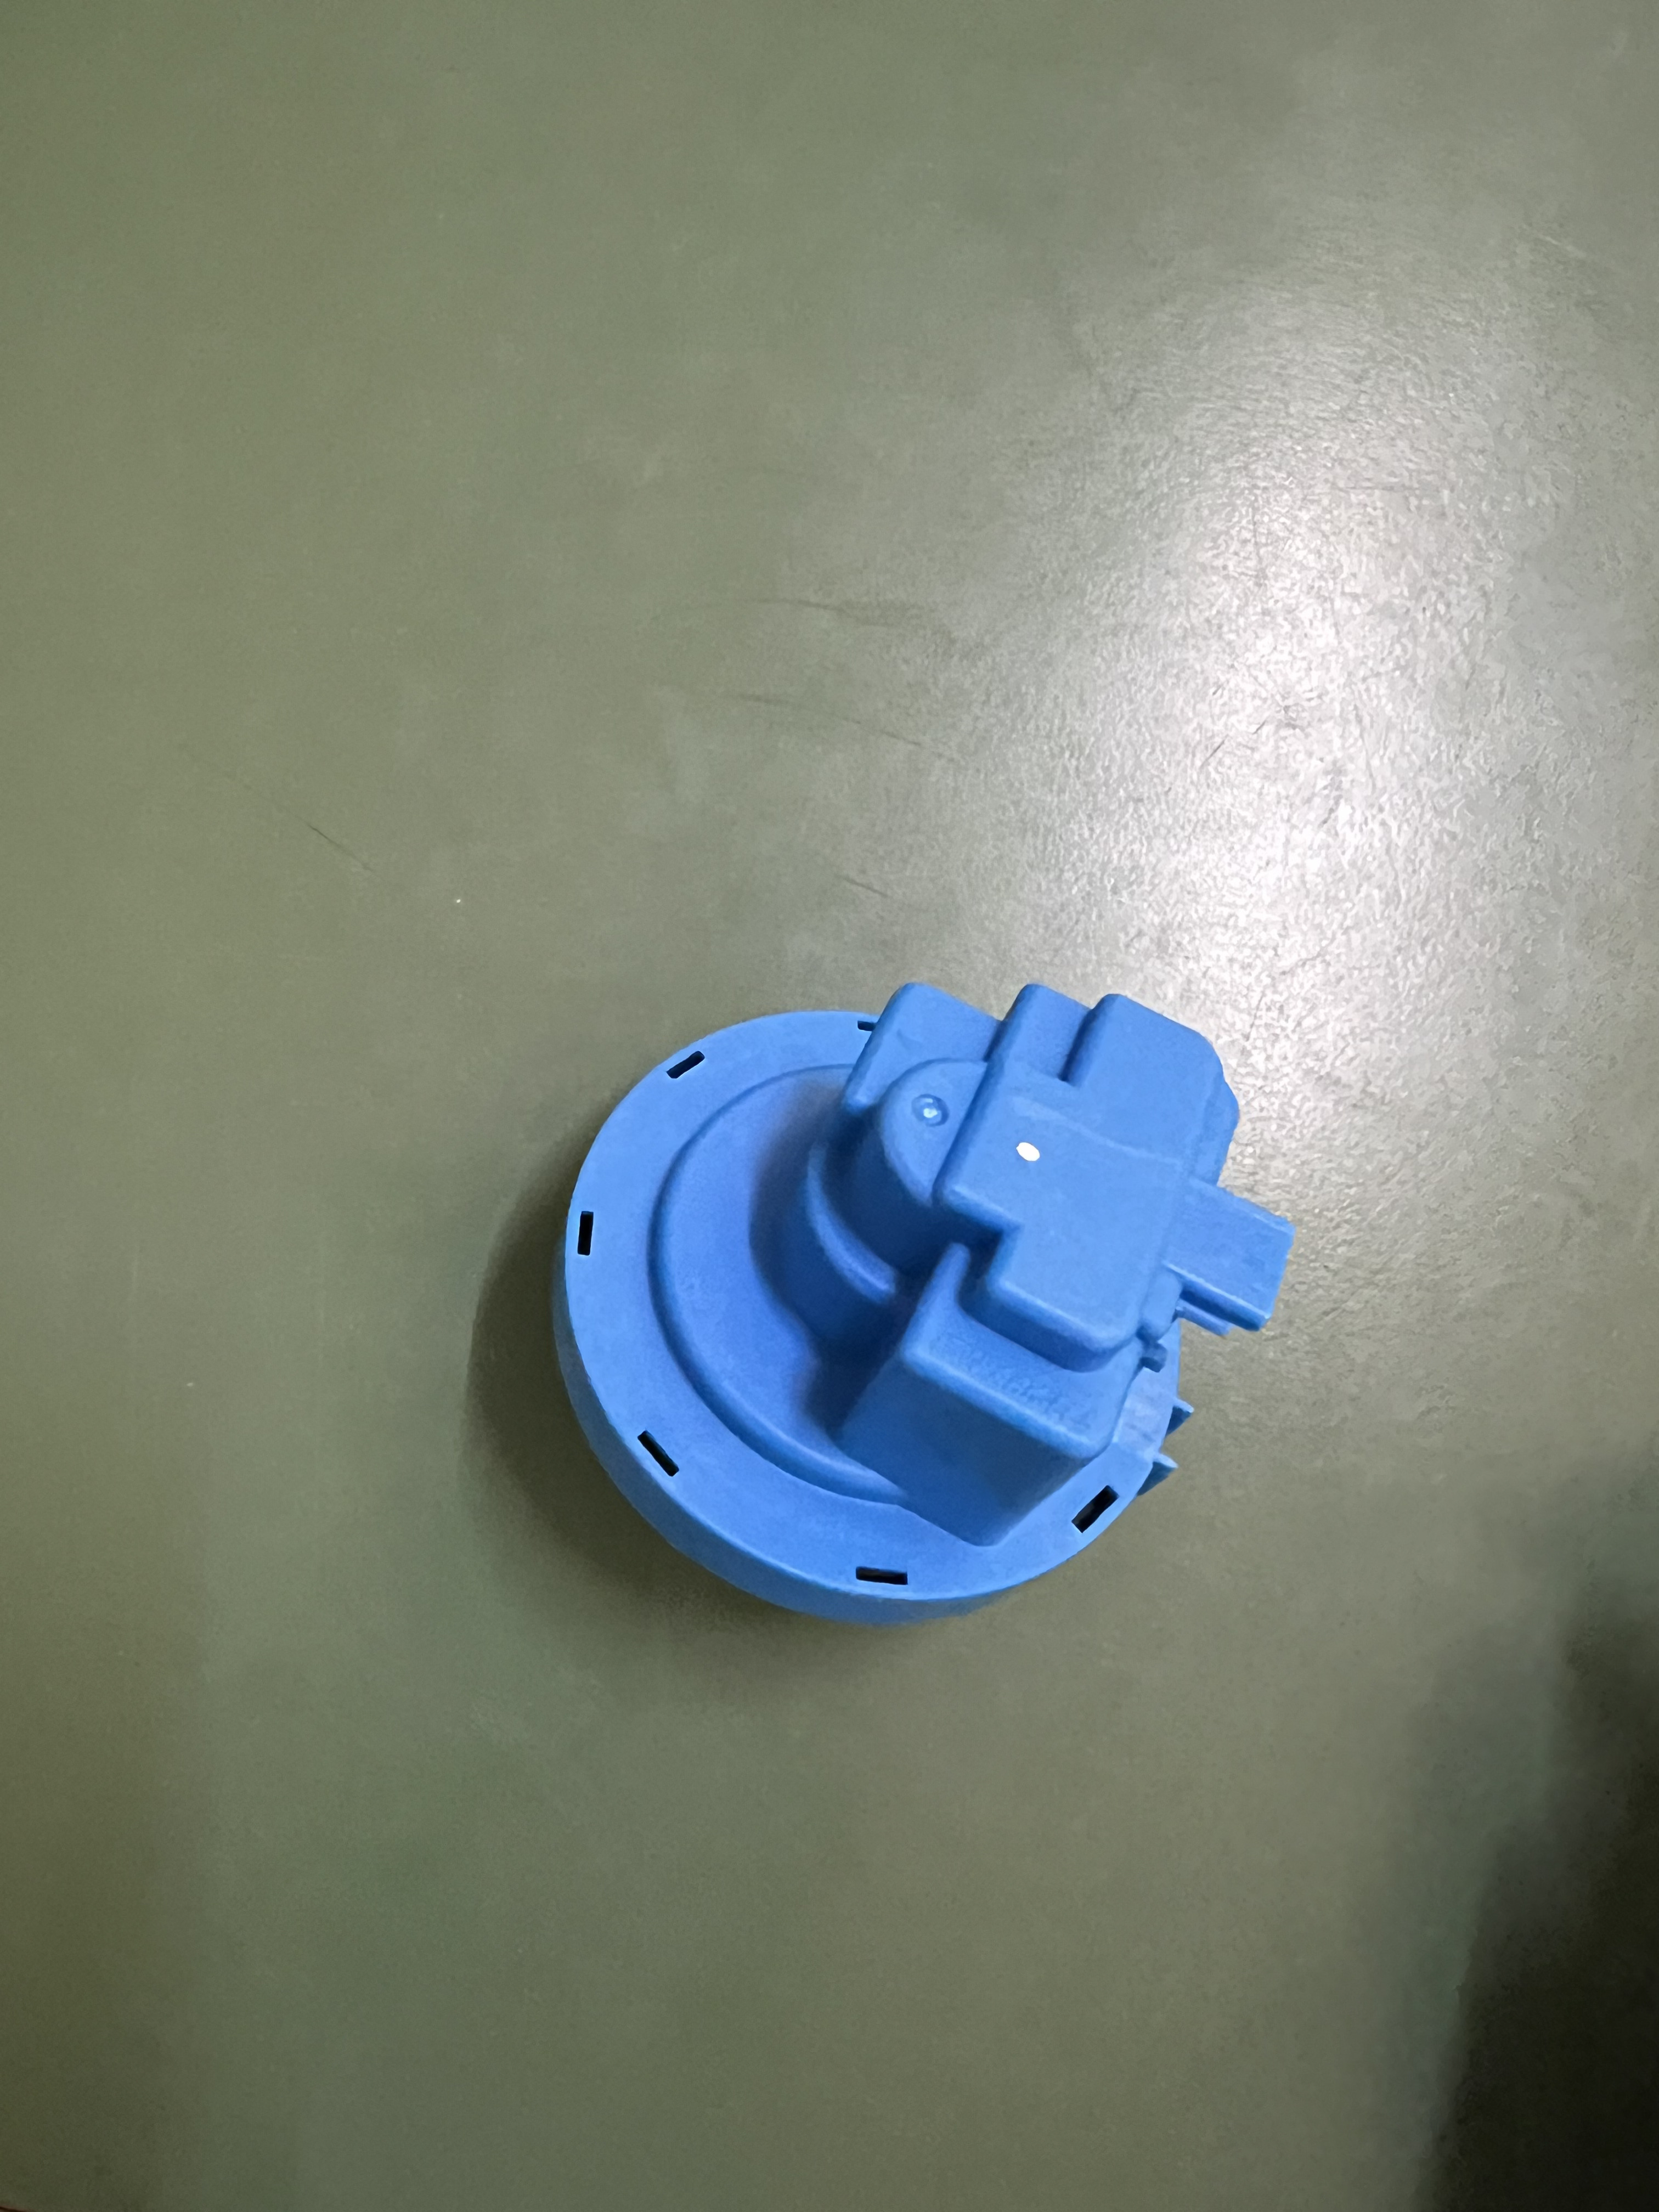voltas_beko_pressure_switch: (559, 977, 1298, 1642)
